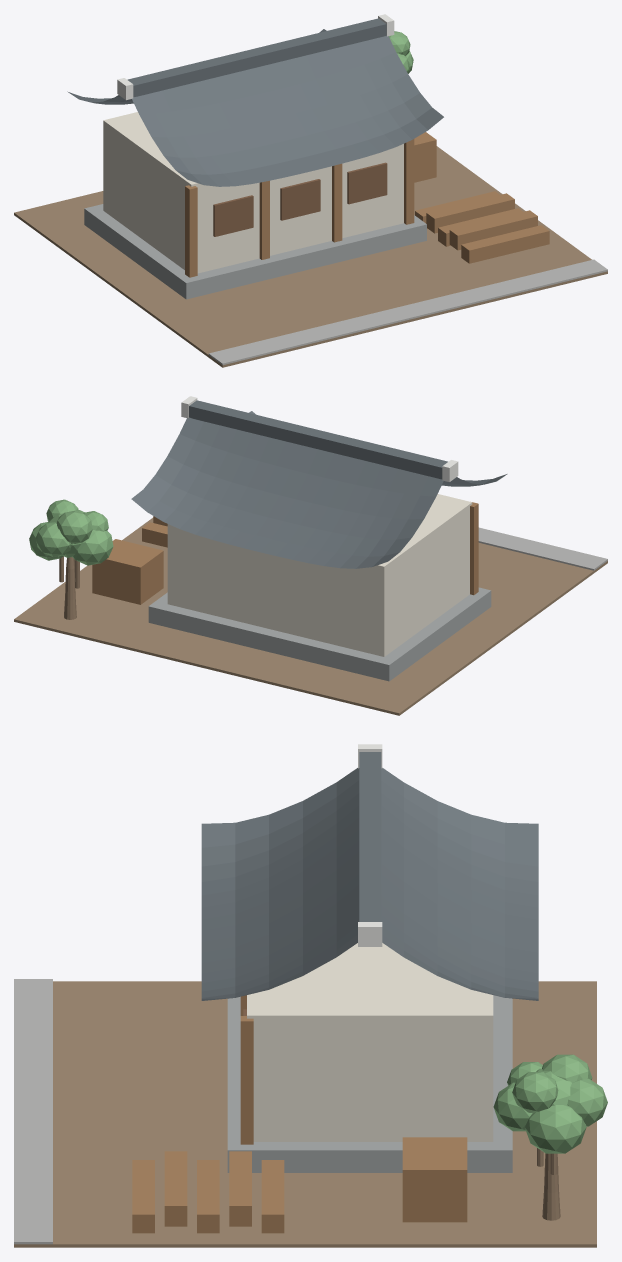
The model's file is workshop.fbx.
3 renders of one model, top to bottom at view 1: azimuth 30°, elevation 25°; view 2: azimuth 150°, elevation 25°; view 3: azimuth 270°, elevation 25°, orthographic. The views are drawn at different scales.
Visible parts, largest first — view 1: workshop; view 2: workshop; view 3: workshop.
Part boxes in pixels (<box>): workshop: <box>14,14,607,367</box>; workshop: <box>14,396,607,715</box>; workshop: <box>14,744,607,1247</box>.
Size of the model in its own units: 960 by 441 by 917.
